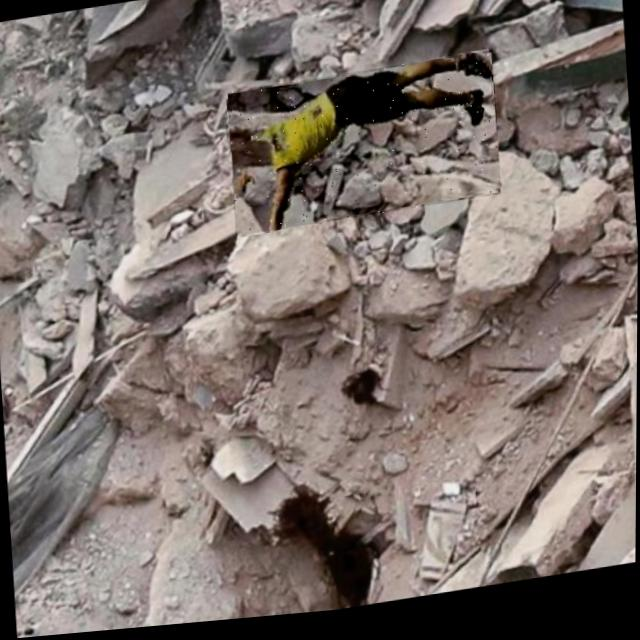Person in Rubble: (226, 58, 502, 241)
